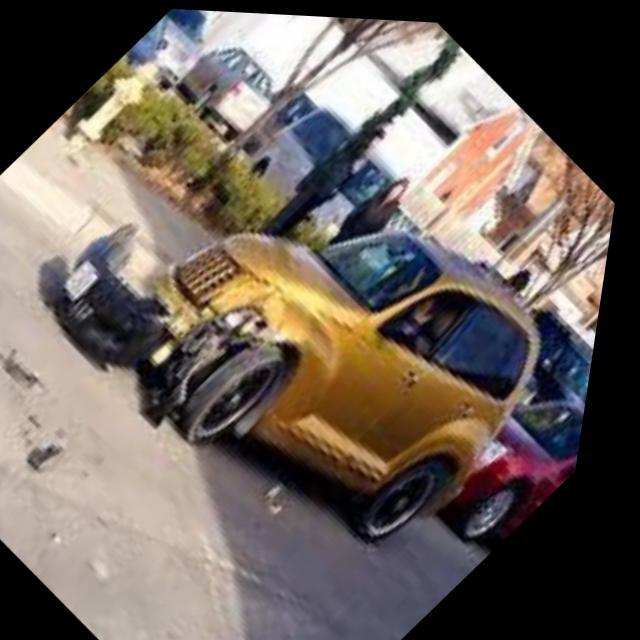dislocated part: (73, 218, 357, 409)
